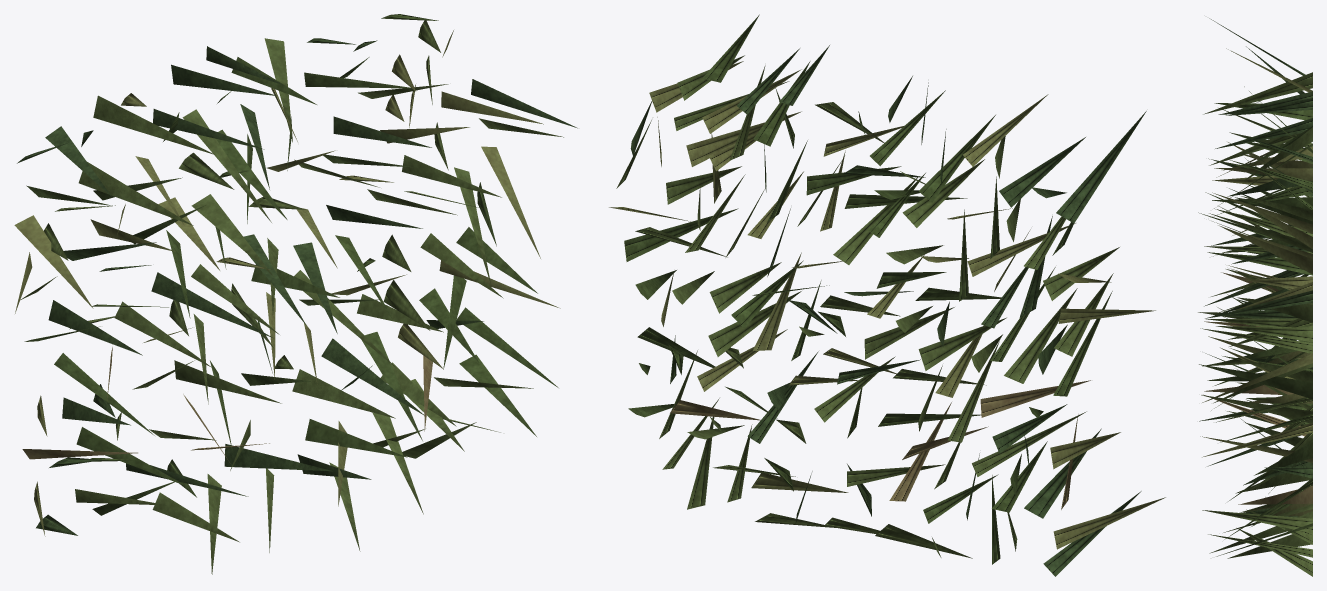
The model's file is low_grass_patch.obj.
3 renders of one model, left to right at view 1: azimuth 30°, elevation 25°; view 2: azimuth 150°, elevation 25°; view 3: azimuth 270°, elevation 25°, orthographic. The views are drawn at different scales.
Visible parts, largest first — view 1: blade_130, blade_078, blade_086, blade_101, blade_055, blade_129, blade_083, blade_044, blade_124, blade_006, blade_091, blade_025 (+34 smaller); view 2: blade_001, blade_096, blade_109, blade_103, blade_035, blade_146, blade_060, blade_002, blade_118, blade_100, blade_089, blade_137 (+34 smaller); view 3: blade_103, blade_130, blade_098, blade_013, blade_118, blade_117, blade_112, blade_060, blade_032, blade_145, blade_149, blade_049 (+69 smaller).
Boxes of the visible parts, <box> form: blade_130: <box>93,95,214,154</box>; blade_078: <box>151,272,272,337</box>; blade_086: <box>78,162,193,225</box>; blade_101: <box>321,338,424,415</box>; blade_055: <box>292,369,395,418</box>; blade_129: <box>224,444,332,471</box>; blade_083: <box>14,215,93,308</box>; blade_044: <box>305,419,407,457</box>; blade_124: <box>191,194,273,276</box>; blade_006: <box>48,300,142,355</box>; blade_091: <box>76,427,187,486</box>; blade_025: <box>171,64,276,95</box>; blade_001: <box>1056,111,1146,223</box>; blade_096: <box>1004,288,1077,383</box>; blade_109: <box>1053,497,1165,549</box>; blade_103: <box>624,208,738,261</box>; blade_035: <box>999,137,1085,207</box>; blade_146: <box>918,317,1006,370</box>; blade_060: <box>708,291,801,356</box>; blade_002: <box>1024,428,1101,518</box>; blade_118: <box>686,111,801,166</box>; blade_100: <box>980,380,1090,417</box>; blade_089: <box>972,411,1086,476</box>; blade_137: <box>918,115,995,202</box>; blade_103: <box>1199,364,1312,399</box>; blade_130: <box>1203,72,1312,114</box>; blade_098: <box>1202,510,1312,533</box>; blade_013: <box>1216,326,1312,342</box>; blade_118: <box>1218,225,1312,274</box>; blade_117: <box>1205,290,1312,318</box>; blade_112: <box>1215,118,1312,148</box>; blade_060: <box>1201,395,1312,423</box>; blade_032: <box>1200,328,1312,353</box>; blade_145: <box>1202,422,1312,457</box>; blade_149: <box>1202,353,1312,402</box>; blade_049: <box>1238,485,1312,504</box>.
Bounding box in the file's own units: 1 × 0.9 × 0.22.
1 material, 1 textured.
